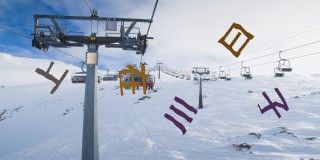上: (35, 59, 67, 93)
在: (116, 62, 154, 98)
子: (257, 87, 289, 119)
川: (162, 94, 199, 134)
日: (218, 20, 255, 58)
